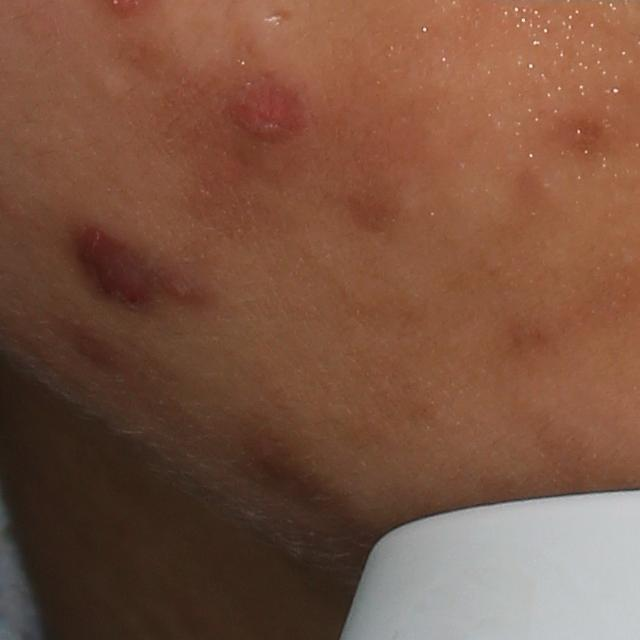atrophic_scar: (264, 6, 292, 31)
comedo: (90, 70, 131, 107)
papule: (81, 228, 158, 314), (236, 86, 300, 142)
